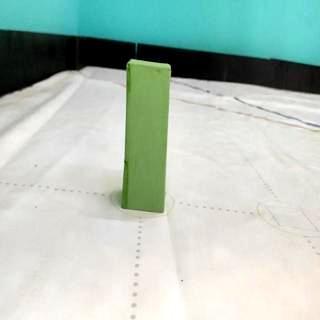greenbox: (124, 56, 172, 215)
